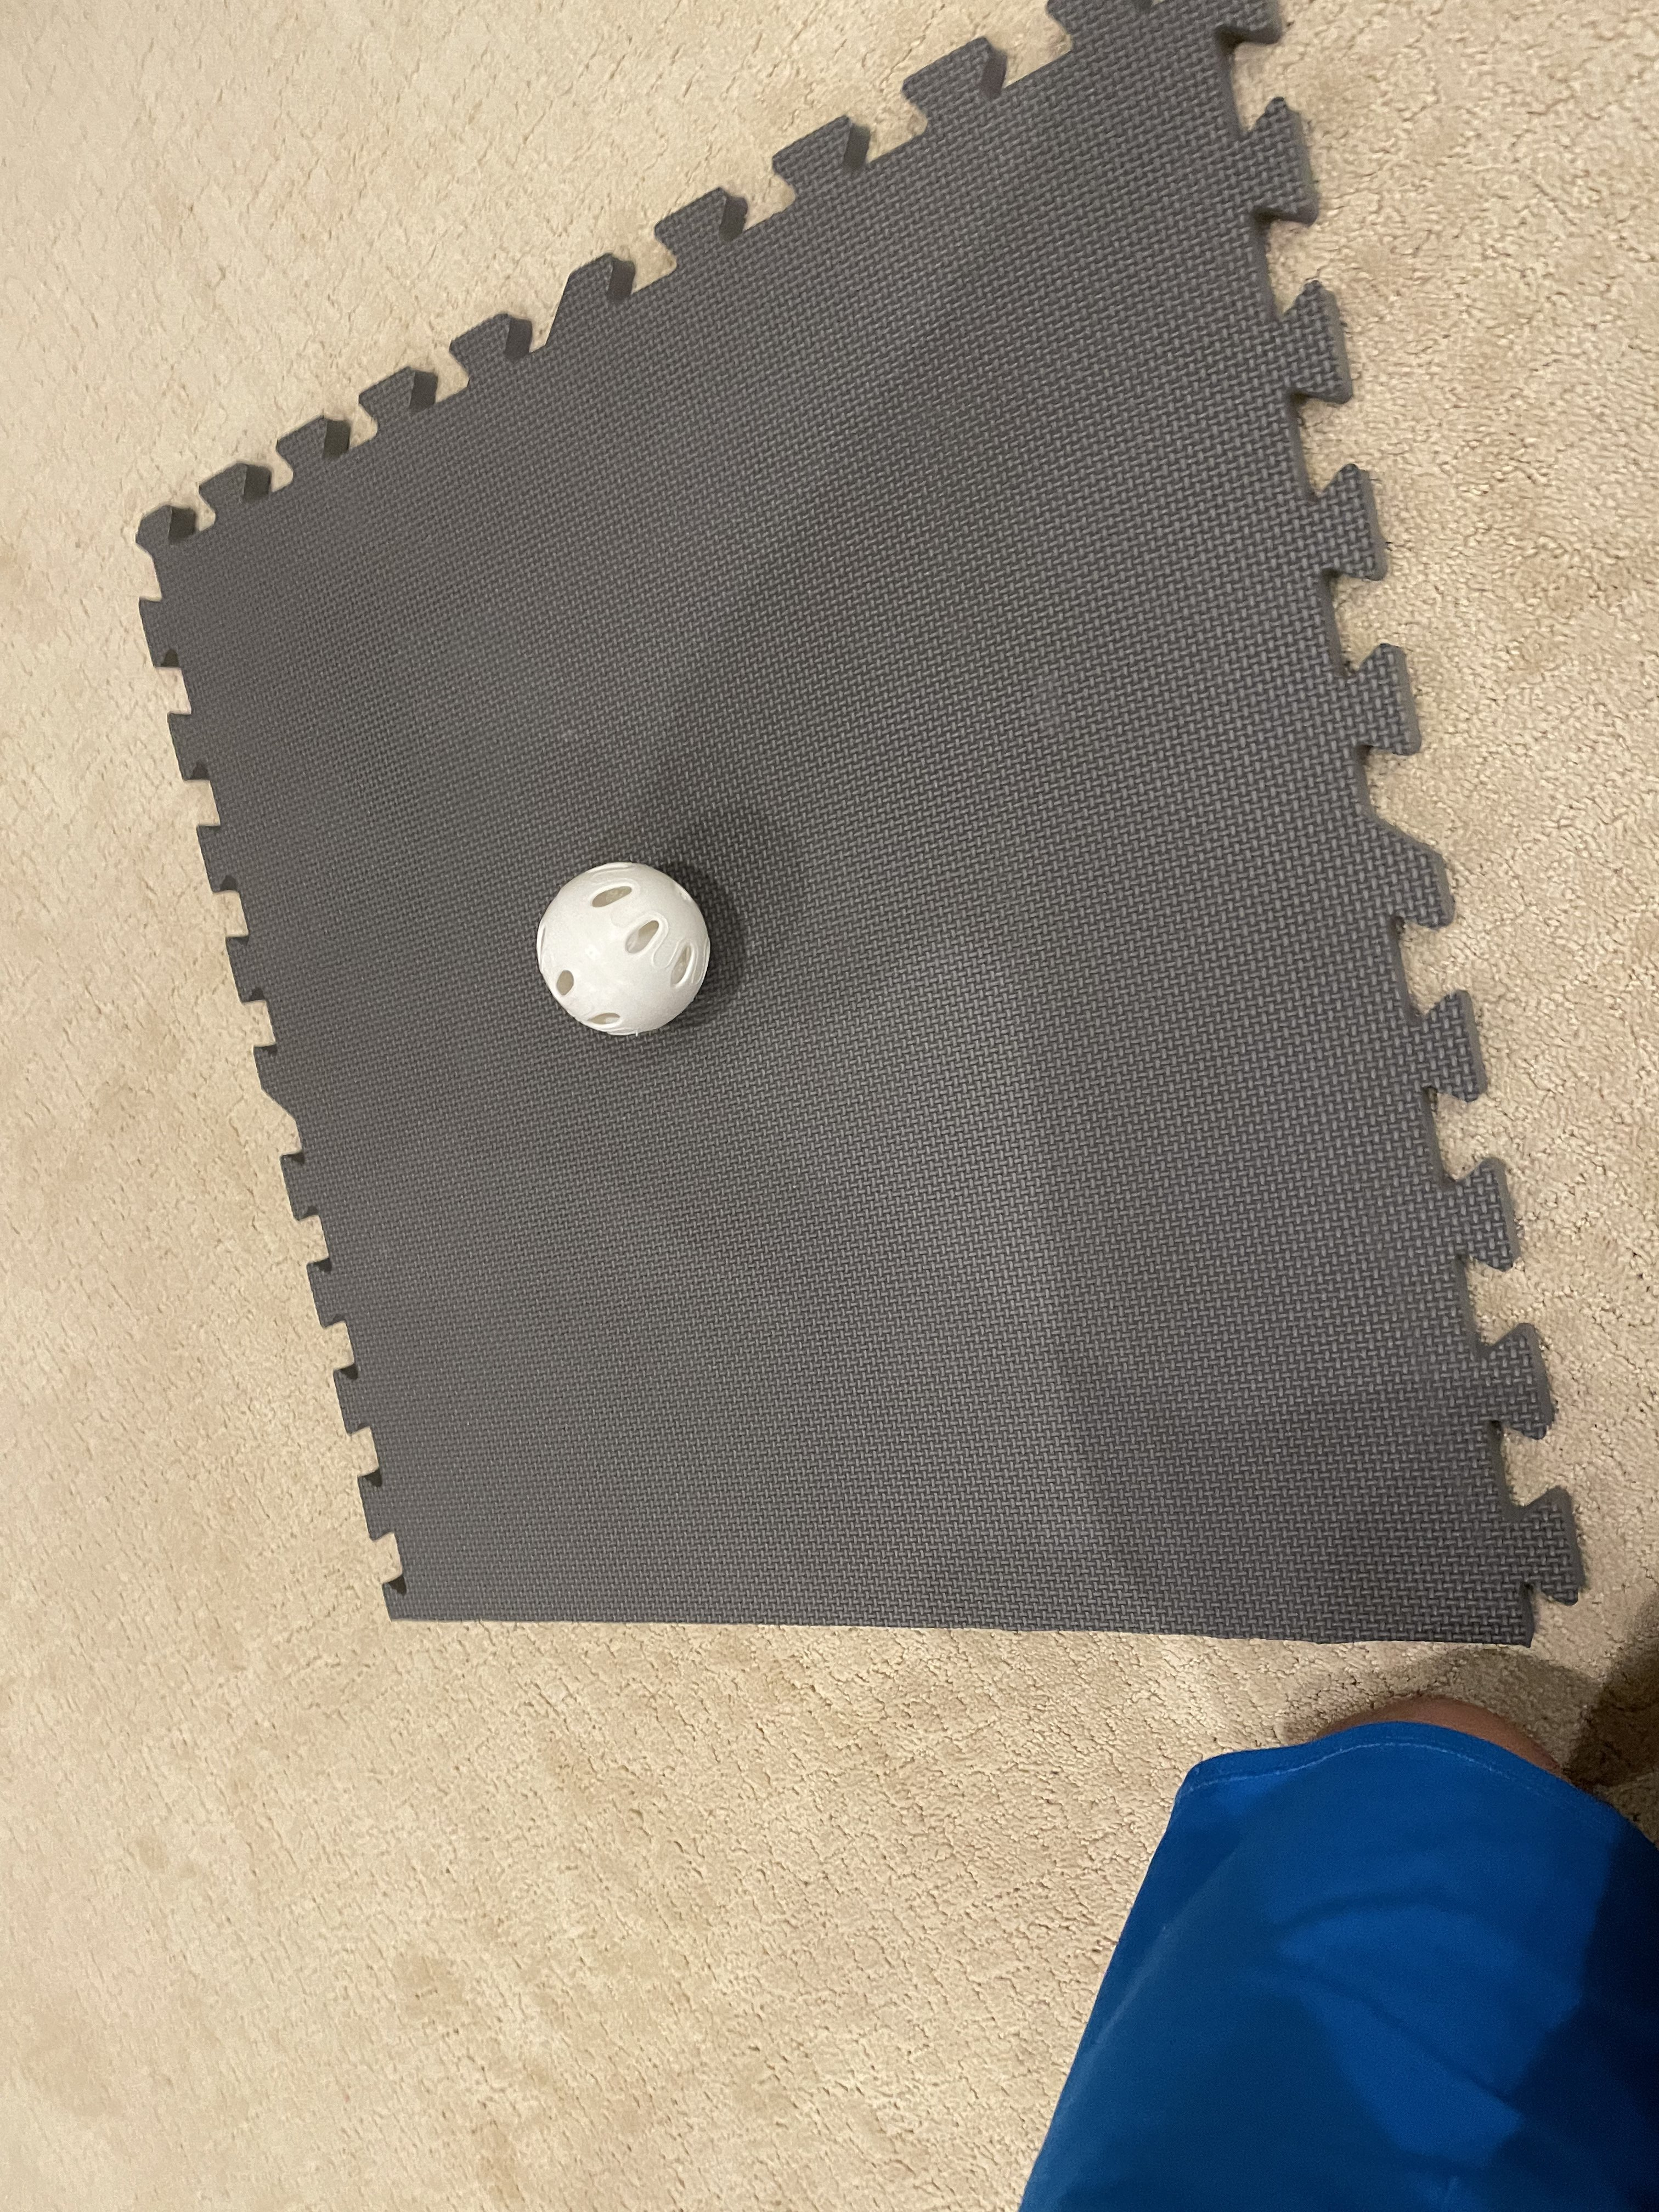ball: (509, 822, 742, 1055)
